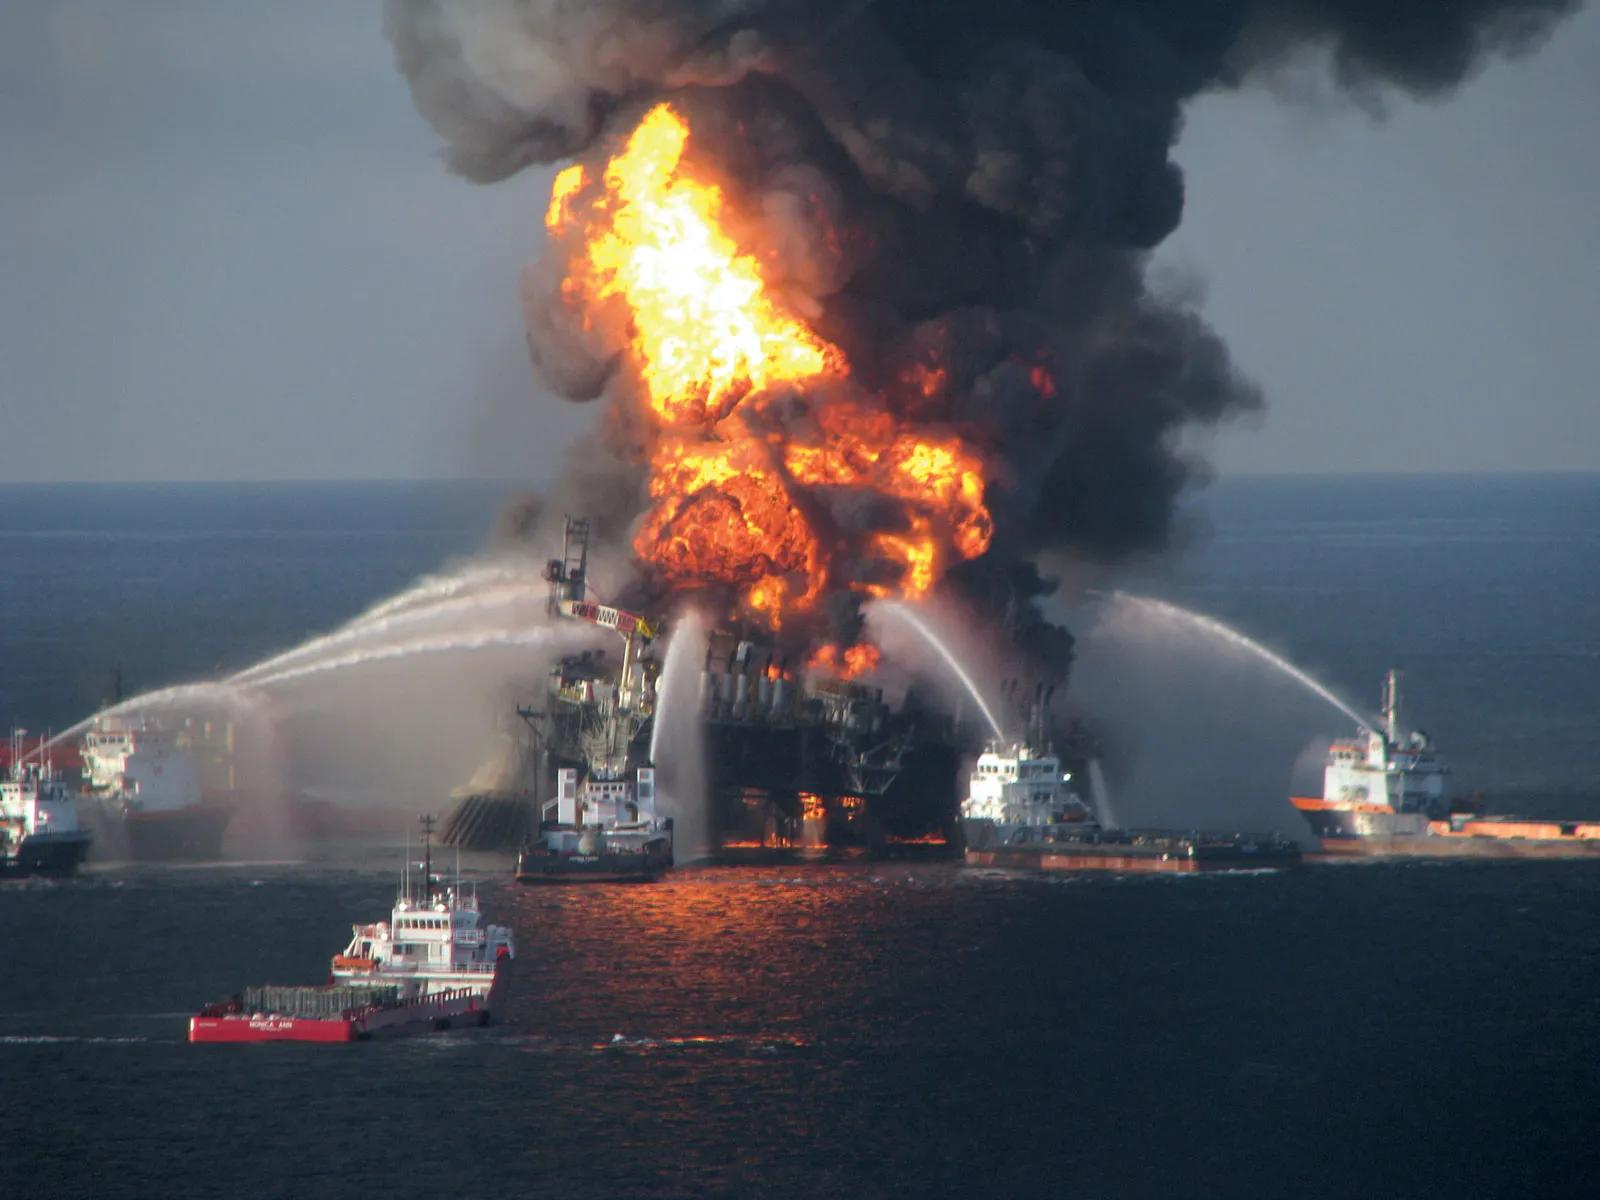fire: (548, 89, 990, 706)
